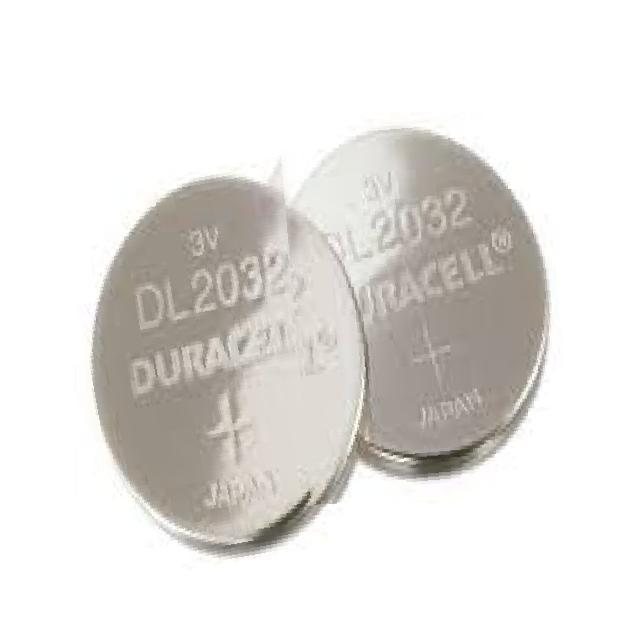Battery: (46, 167, 368, 579), (289, 126, 561, 507)
